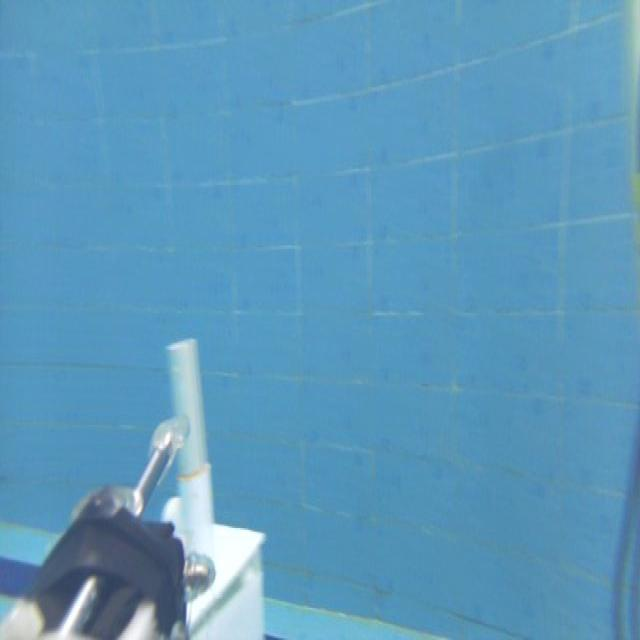Cube: (0, 512, 267, 638)
